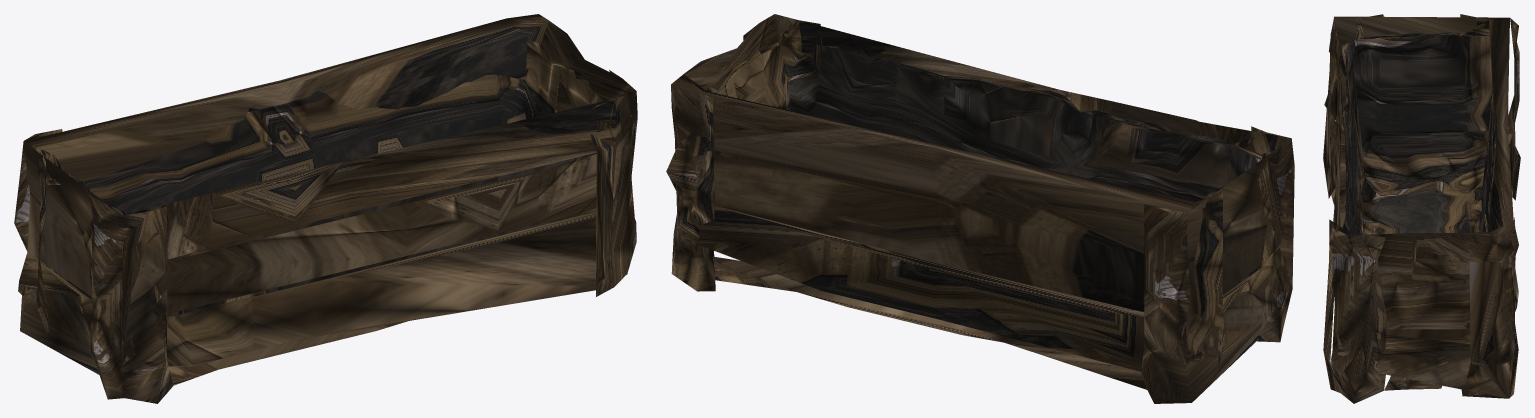
Rendered from planter_box_02.glb.
3 views of the same model, side by side, from view 1: azimuth 30°, elevation 25°; view 2: azimuth 150°, elevation 25°; view 3: azimuth 270°, elevation 25° (orthographic). The views are drawn at different scales.
Parts seen in each view (by area): view 1: planter_box_02; view 2: planter_box_02; view 3: planter_box_02.
Part boxes in pixels (left/top/right/bottom): planter_box_02: left=14, top=14, right=637, bottom=403; planter_box_02: left=666, top=14, right=1294, bottom=403; planter_box_02: left=1323, top=14, right=1520, bottom=403.
Bounding box in the file's own units: 1.25 × 0.4465 × 0.4609.
Materials: 1 (1 with a texture image).
